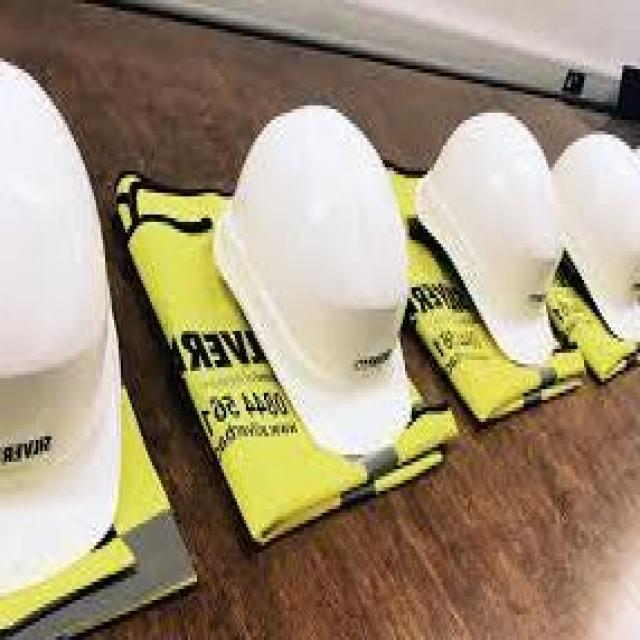Safety-Helmet: (0, 32, 166, 632), (403, 102, 566, 360)
